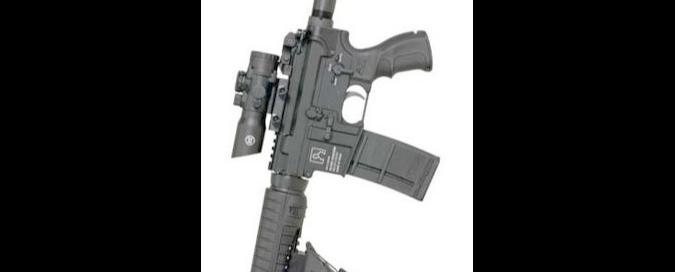gun: (208, 0, 470, 272)
